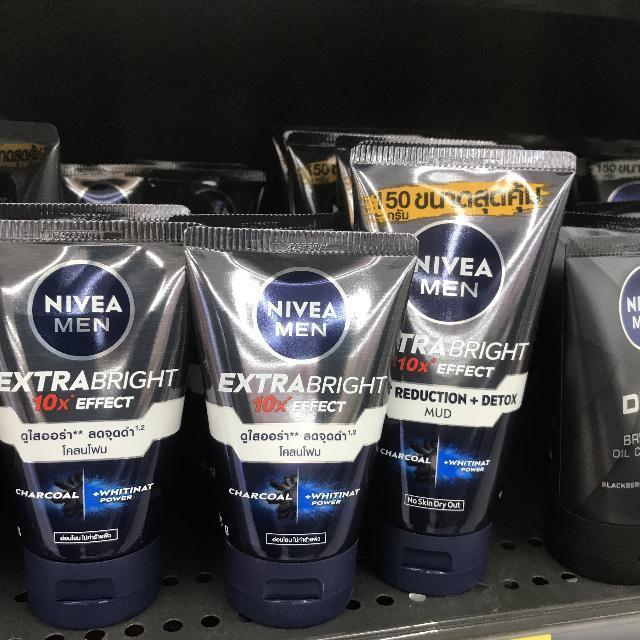Squeeze Tube: (354, 147, 587, 594), (186, 231, 413, 632), (0, 212, 202, 632)
